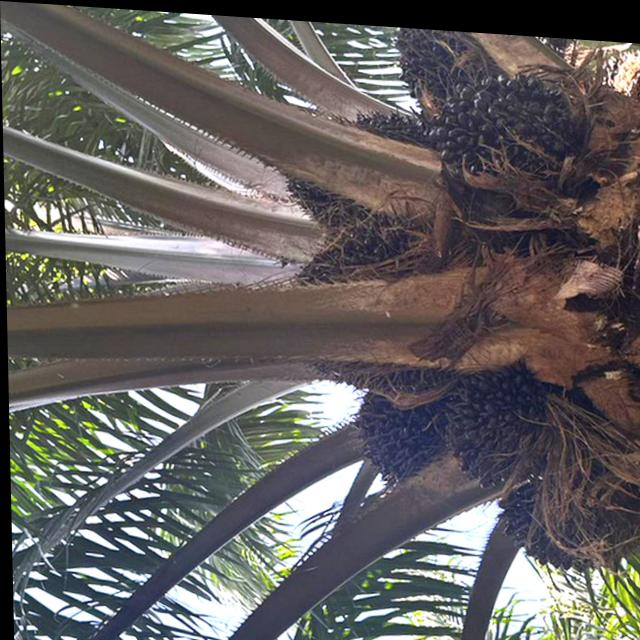unripe: (271, 223, 466, 403), (427, 66, 592, 223), (270, 95, 434, 231), (436, 366, 565, 485), (334, 383, 445, 498), (489, 469, 594, 569), (382, 20, 496, 106)
